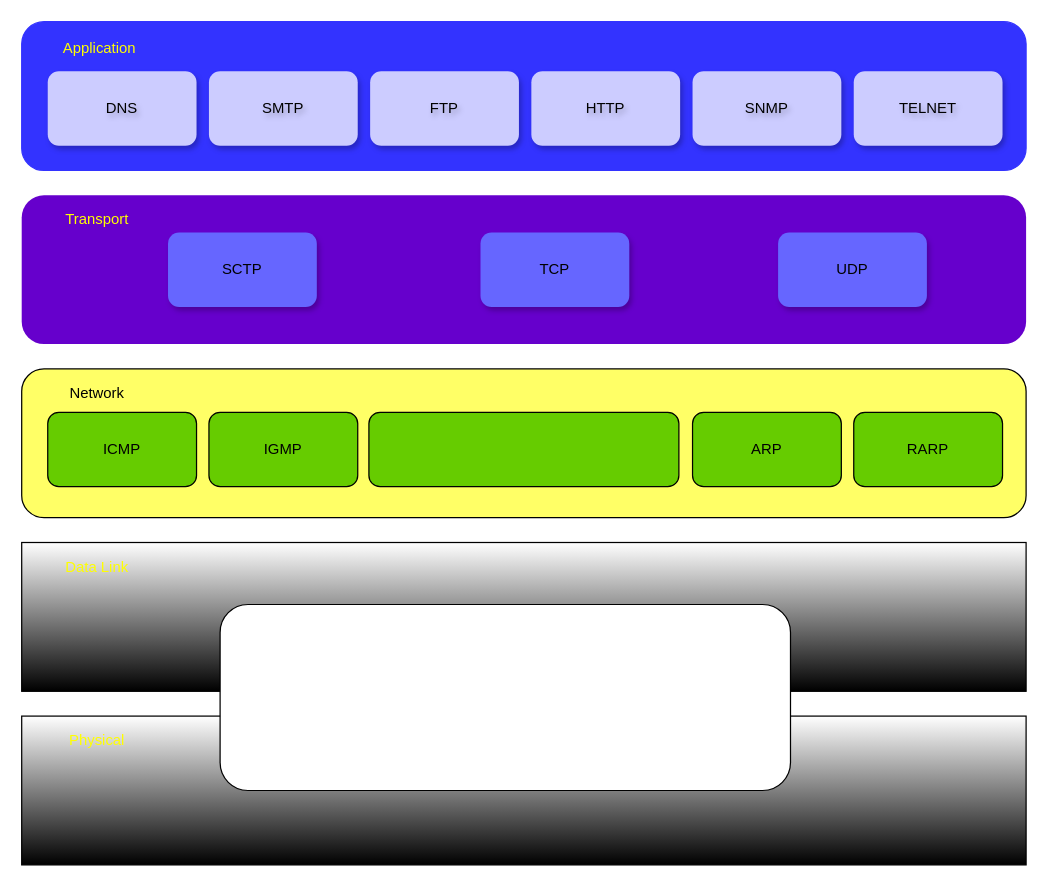
Image size: 1048x887. Some labels were removed from this diagram. Each missing label, with the centre of its shape:
"IP" goes at point 523,449.
"Networks Protocols defined by the underlying networks." goes at point 504,696.
